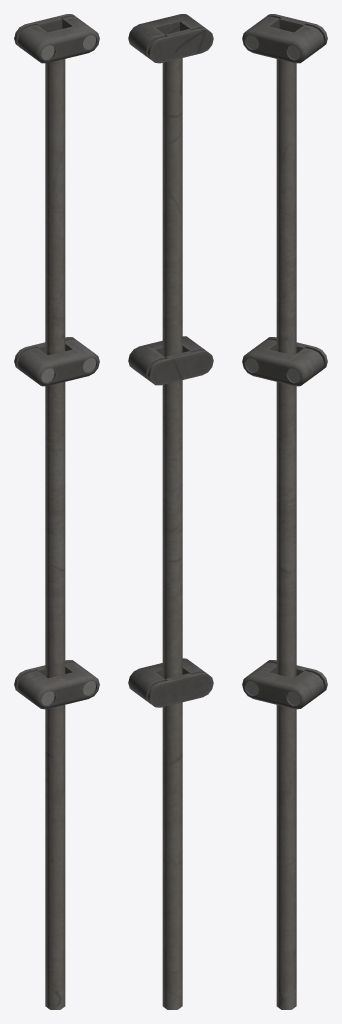
Rendered from cable_cable_straight_long.fbx.
The picture shows the model from 3 angles, left to right: view 1: azimuth 30°, elevation 25°; view 2: azimuth 210°, elevation 25°; view 3: azimuth 330°, elevation 25°; orthographic projection.
Parts seen in each view (by area): view 1: modular_electric_cables__cable_straight_long; view 2: modular_electric_cables__cable_straight_long; view 3: modular_electric_cables__cable_straight_long.
Part boxes in pixels (x1,y1,x2,y2): modular_electric_cables__cable_straight_long: (14,14,99,1009); modular_electric_cables__cable_straight_long: (128,14,213,1009); modular_electric_cables__cable_straight_long: (242,14,327,1009).
Size of the model in its own units: 0.0416 by 0.6073 by 0.0259.
